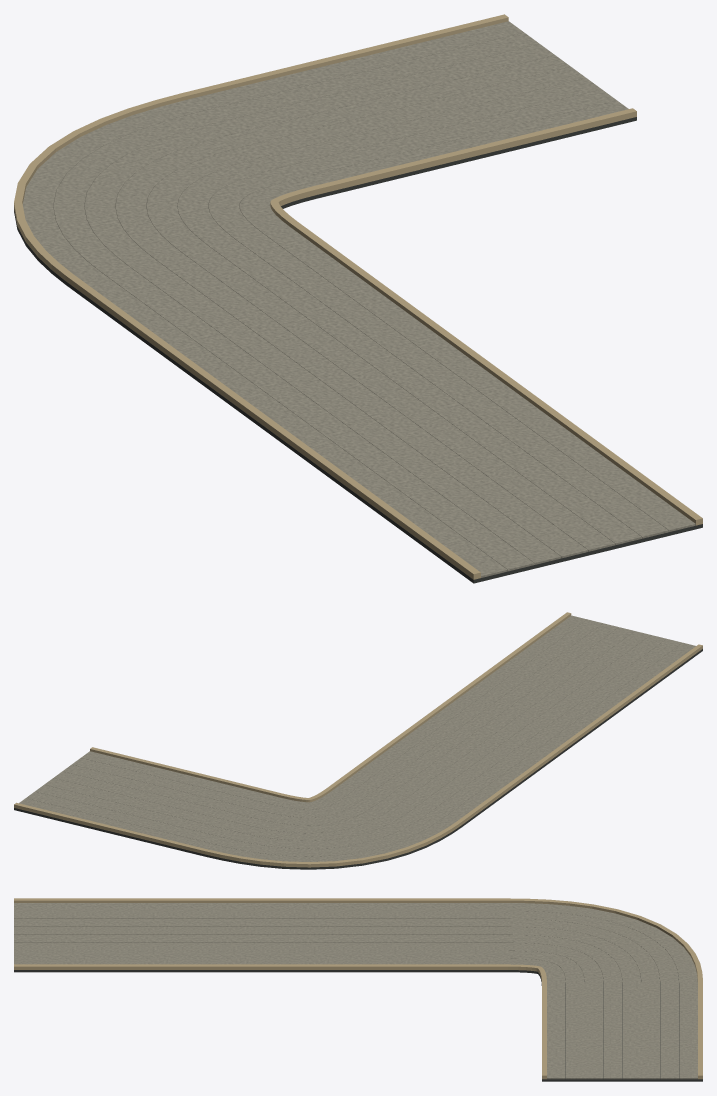
The model's file is track_main_12.fbx.
3 renders of one model, top to bottom at view 1: azimuth 30°, elevation 25°; view 2: azimuth 150°, elevation 25°; view 3: azimuth 270°, elevation 25°, orthographic. The views are drawn at different scales.
Parts seen in each view (by area): view 1: roman_concrete.001, travertine.001, basalt.001; view 2: roman_concrete.001, travertine.001, basalt.001; view 3: roman_concrete.001, travertine.001, basalt.001.
Boxes of the visible parts, x1,y1,x2,y2 form: roman_concrete.001: (22, 21, 695, 577); travertine.001: (14, 14, 702, 579); basalt.001: (14, 117, 702, 583); roman_concrete.001: (19, 615, 695, 861); travertine.001: (14, 612, 702, 867); basalt.001: (14, 649, 702, 869); roman_concrete.001: (14, 903, 697, 1079); travertine.001: (14, 898, 702, 1079); basalt.001: (14, 970, 702, 1081).
Bounding box in the file's own units: 266608 × 437837 × 4000.
